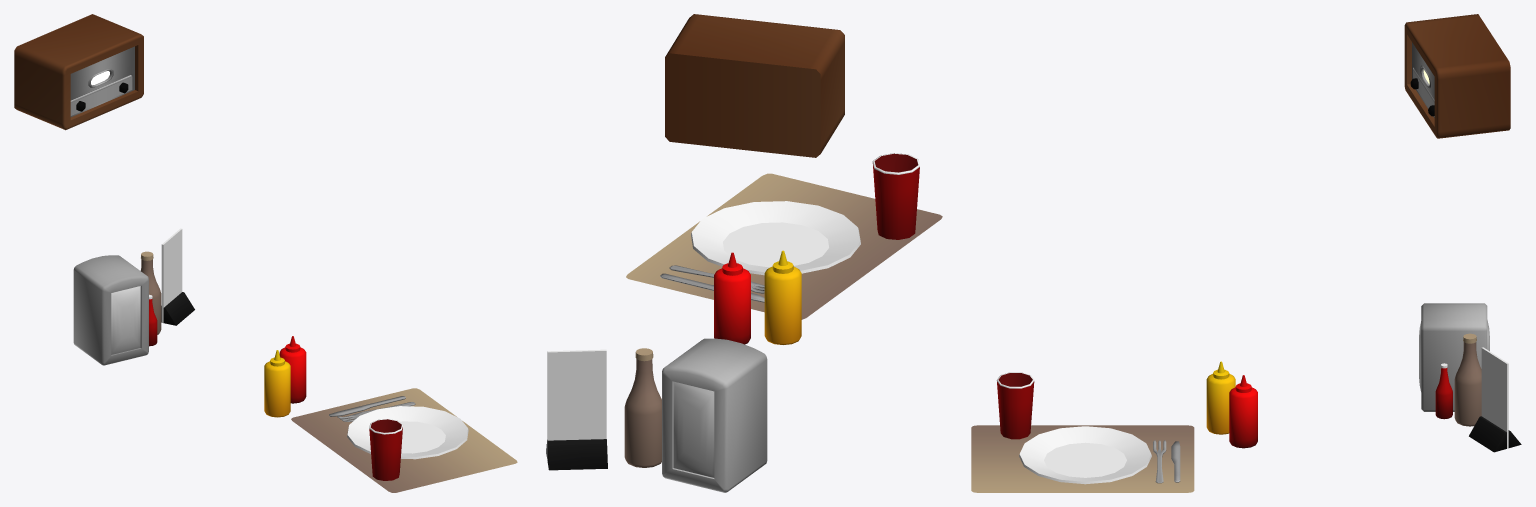
The model's file is m_thomas_props.fbx.
3 renders of one model, left to right at view 1: azimuth 30°, elevation 25°; view 2: azimuth 150°, elevation 25°; view 3: azimuth 270°, elevation 25°, orthographic. The views are drawn at different scales.
Visible parts, largest first — view 1: m_thomas_props; view 2: m_thomas_props; view 3: m_thomas_props.
Boxes of the visible parts, x1=… form: m_thomas_props: x1=14, y1=14, x2=517, y2=492; m_thomas_props: x1=546, y1=14, x2=942, y2=492; m_thomas_props: x1=971, y1=14, x2=1521, y2=492.
Bounding box in the file's own units: 103 × 114 × 166.
